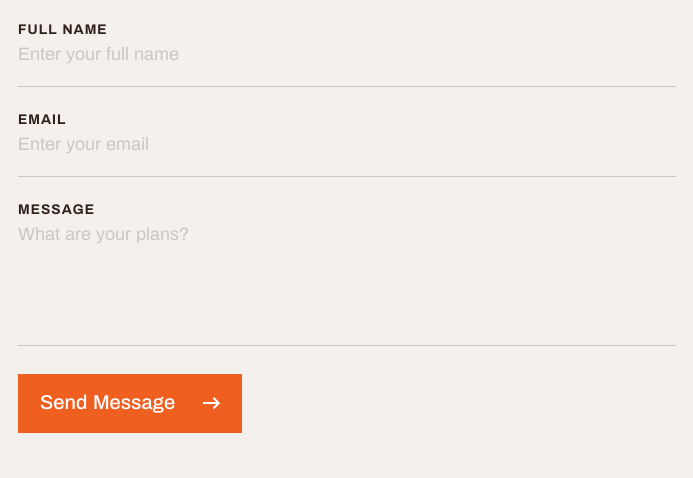
Test: Contact page › shows error if user tries to submit an invalid name
Step 1. Type "Test12!" into the field with placeholder "Enter your full name" → (347, 66), box [18,46,676,87]
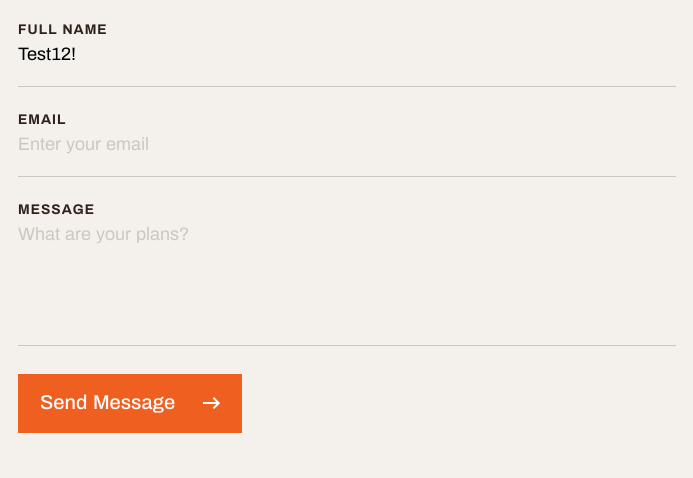
Step 2. Type "john.doe@gmail.com" into the field with placeholder "Enter your email" → (347, 156), box [18,136,676,177]
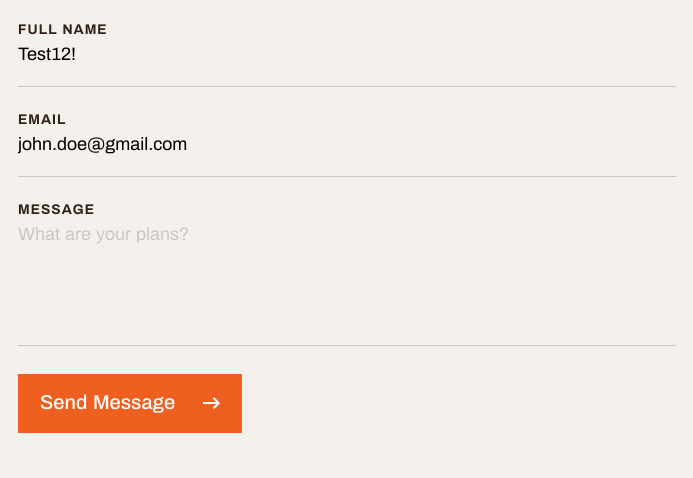
Step 3. Type "Lorem ipsum dolor sit amet, consectetur adipiscing elit. Quisque consectetur sapien a urna suscipit, sit amet egestas mi egestas. Donec maximus tortor sit amet nisi cursus dapibus. Ut facilisis sem eu" into the text box with placeholder "What are your plans?" → (347, 286), box [18,226,676,346]
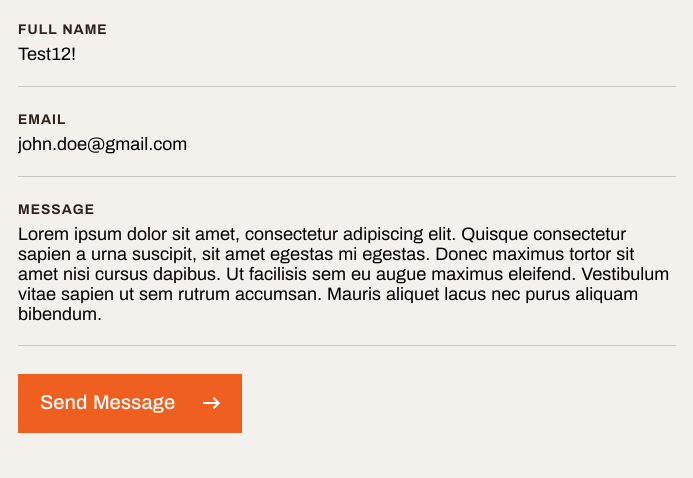
Step 4. Click the button "Send Message" → (130, 404), box [18,374,242,433]
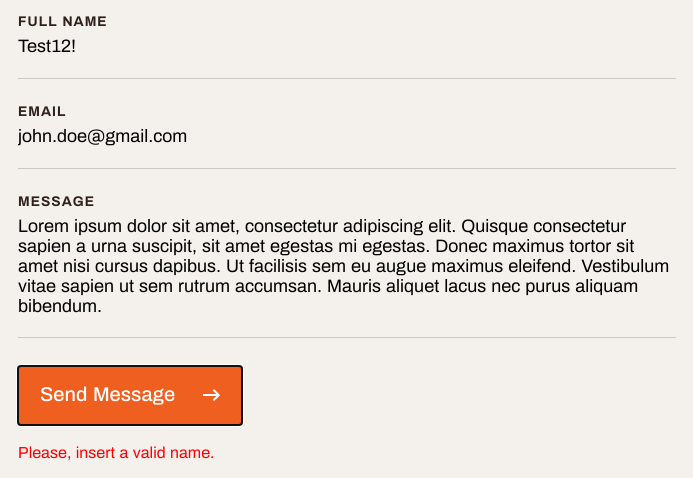
Now the text with id "error" reads "Please, insert a valid name.", box [18,446,214,460]
